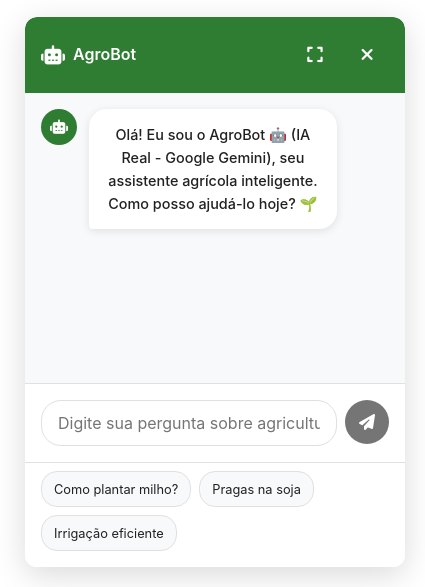
Test case: Chatbot › sends user message and receives bot response
In the field with placeholder "Digite sua pergunta sobre agricultura...": (189, 423) [41, 400, 337, 446], type "Como plantar milho?"
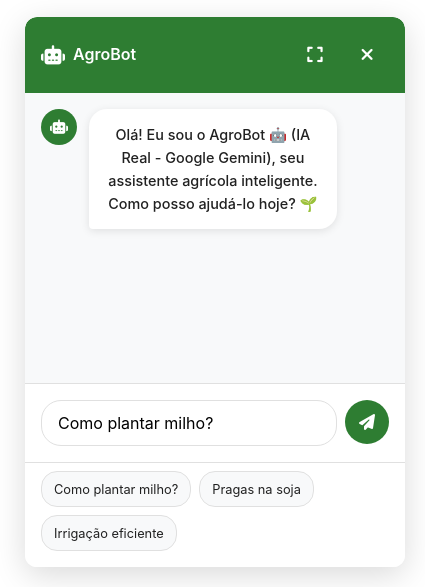
Click the button named "enviar mensagem": (367, 422) [345, 400, 389, 444]
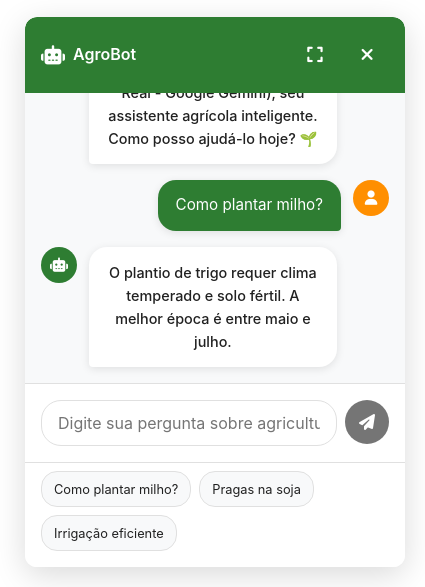
Result: the text "Como plantar milho?" is shown at [176, 195, 323, 214]
